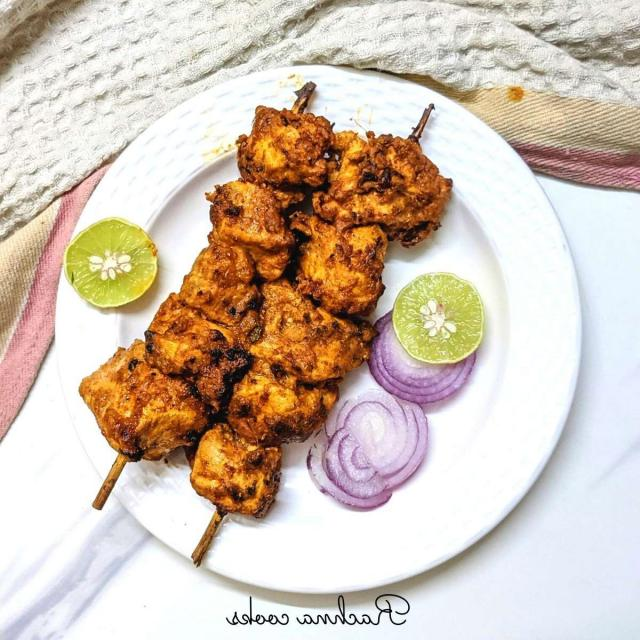Chicken Tikka: (82, 100, 457, 519)
